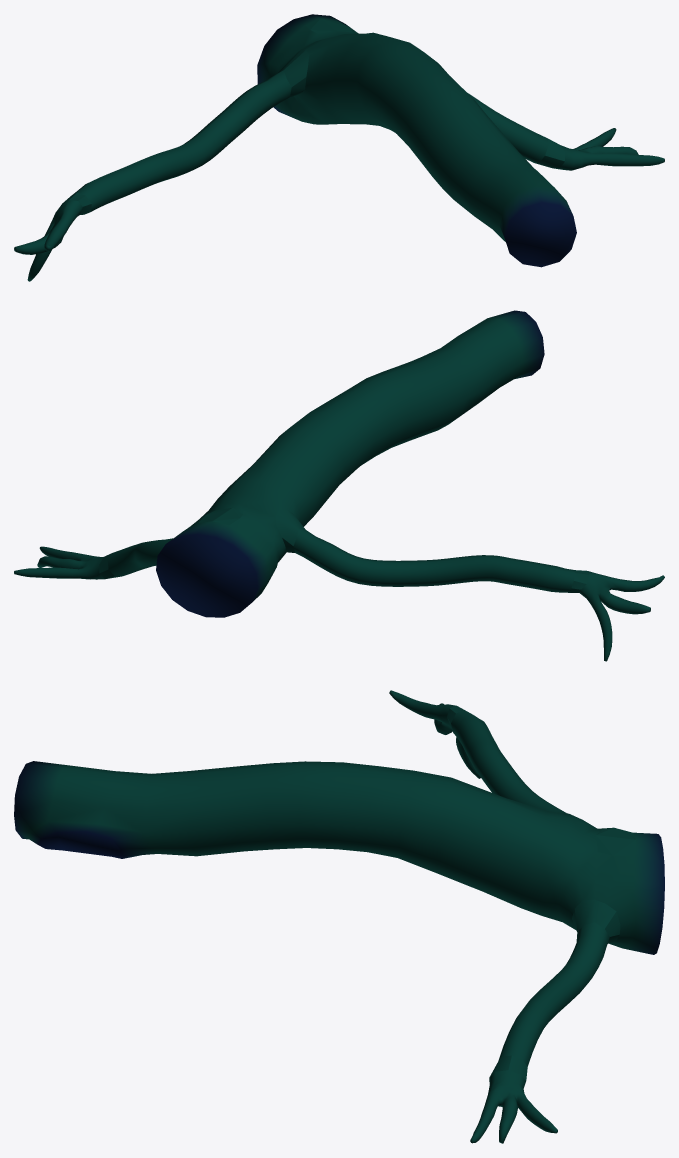
Rendered from Aorta_out.FBX.
3 views of the same model, one above another, from view 1: azimuth 30°, elevation 25°; view 2: azimuth 150°, elevation 25°; view 3: azimuth 270°, elevation 25° (orthographic). The views are drawn at different scales.
Visible parts, largest first — view 1: Aorta_out-Snapshot; view 2: Aorta_out-Snapshot; view 3: Aorta_out-Snapshot.
Boxes of the visible parts, x1,y1,x2,y2 form: Aorta_out-Snapshot: (14,14,664,281); Aorta_out-Snapshot: (14,310,664,661); Aorta_out-Snapshot: (14,690,664,1143).
Bounding box in the file's own units: 136 × 41.8 × 108.
